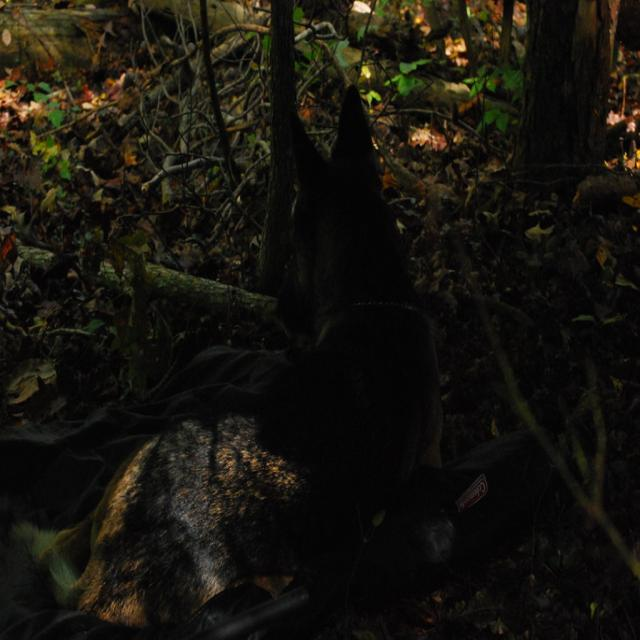Dog: (230, 82, 476, 466)
